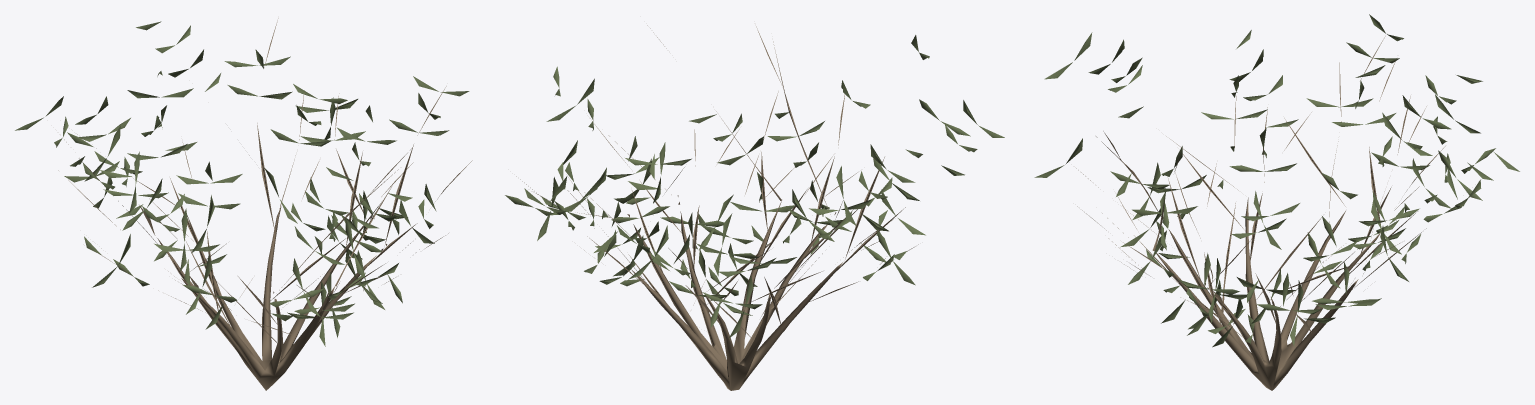
Rendered from Ciste_1_Niveau2.fbx.
3 views of the same model, side by side, from view 1: azimuth 30°, elevation 25°; view 2: azimuth 150°, elevation 25°; view 3: azimuth 270°, elevation 25° (orthographic).
Visible parts, largest first — view 1: Ciste_1_Niveau2; view 2: Ciste_1_Niveau2; view 3: Ciste_1_Niveau2.
Boxes of the visible parts, box(x1,y1,x2,y2) form: Ciste_1_Niveau2: box(15, 18, 472, 390); Ciste_1_Niveau2: box(505, 25, 1004, 390); Ciste_1_Niveau2: box(1034, 14, 1519, 390).
Bounding box in the file's own units: 108 × 84.4 × 119.
